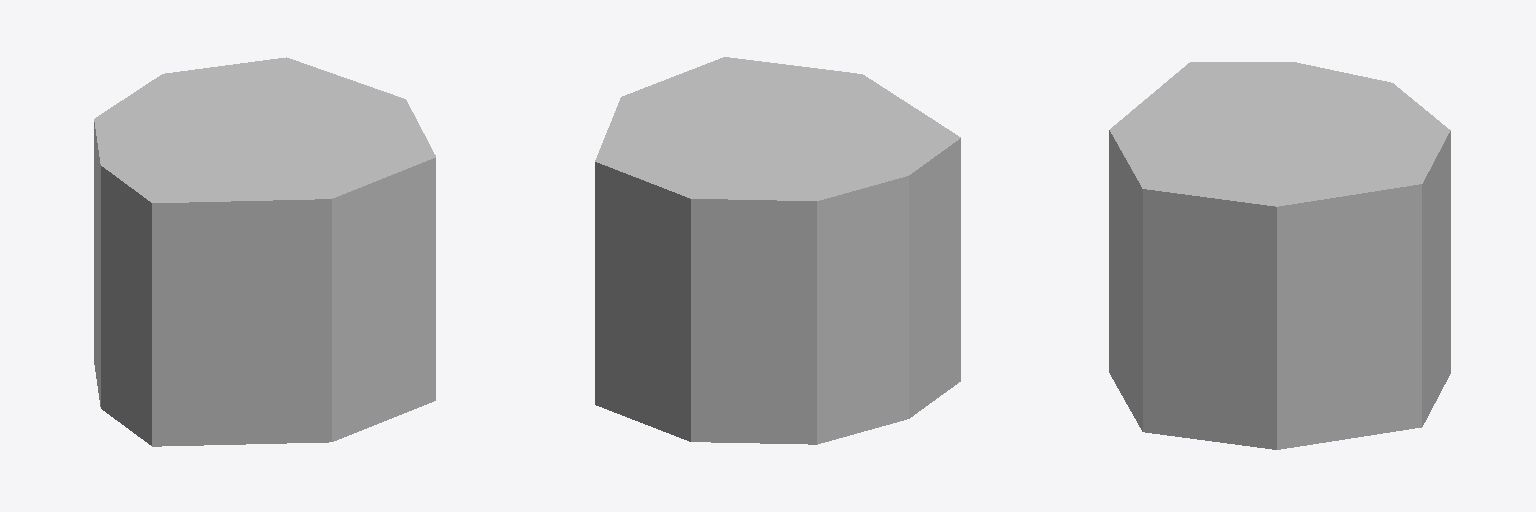
Rendered from platformEmptyPillarCOLL.obj.
3 renders of one model, left to right at view 1: azimuth 30°, elevation 25°; view 2: azimuth 150°, elevation 25°; view 3: azimuth 270°, elevation 25°, orthographic.
Visible parts, largest first — view 1: platformEmptyPillarCOLL PlatfprmsAndSpikes; view 2: platformEmptyPillarCOLL PlatfprmsAndSpikes; view 3: platformEmptyPillarCOLL PlatfprmsAndSpikes.
Boxes of the visible parts, box(x1,y1,x2,y2) form: platformEmptyPillarCOLL PlatfprmsAndSpikes: box(94, 57, 435, 446); platformEmptyPillarCOLL PlatfprmsAndSpikes: box(595, 57, 960, 444); platformEmptyPillarCOLL PlatfprmsAndSpikes: box(1109, 62, 1450, 449).
Size of the model in its own units: 5.51 by 4.32 by 5.49.